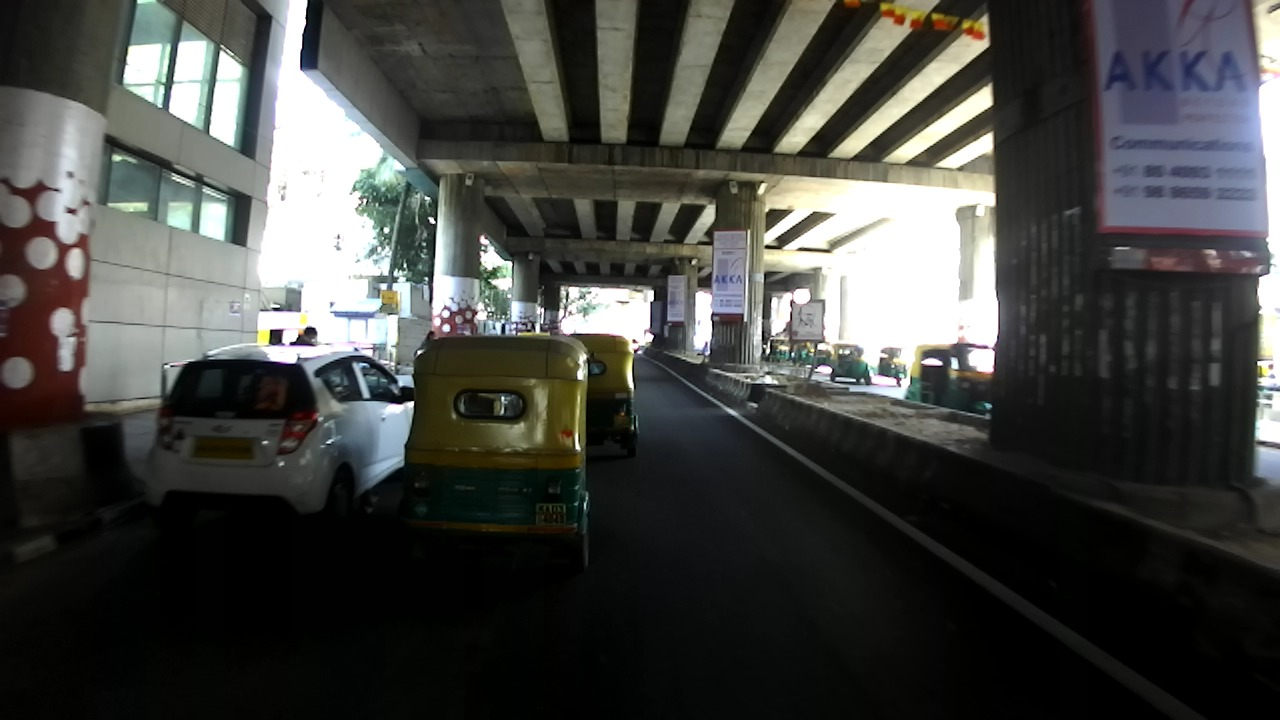autorickshaw: (398, 337, 590, 573), (567, 333, 638, 459), (905, 344, 995, 416), (254, 317, 318, 351), (831, 344, 875, 384), (877, 348, 908, 385), (792, 339, 814, 366), (814, 338, 833, 369), (768, 338, 790, 362), (1259, 360, 1273, 380)
car: (147, 342, 414, 533)
motorcycle: (702, 349, 710, 361)
person: (295, 325, 318, 346), (420, 330, 435, 350)
rider: (702, 341, 709, 353)
vehicle fallback: (1259, 382, 1278, 405)
